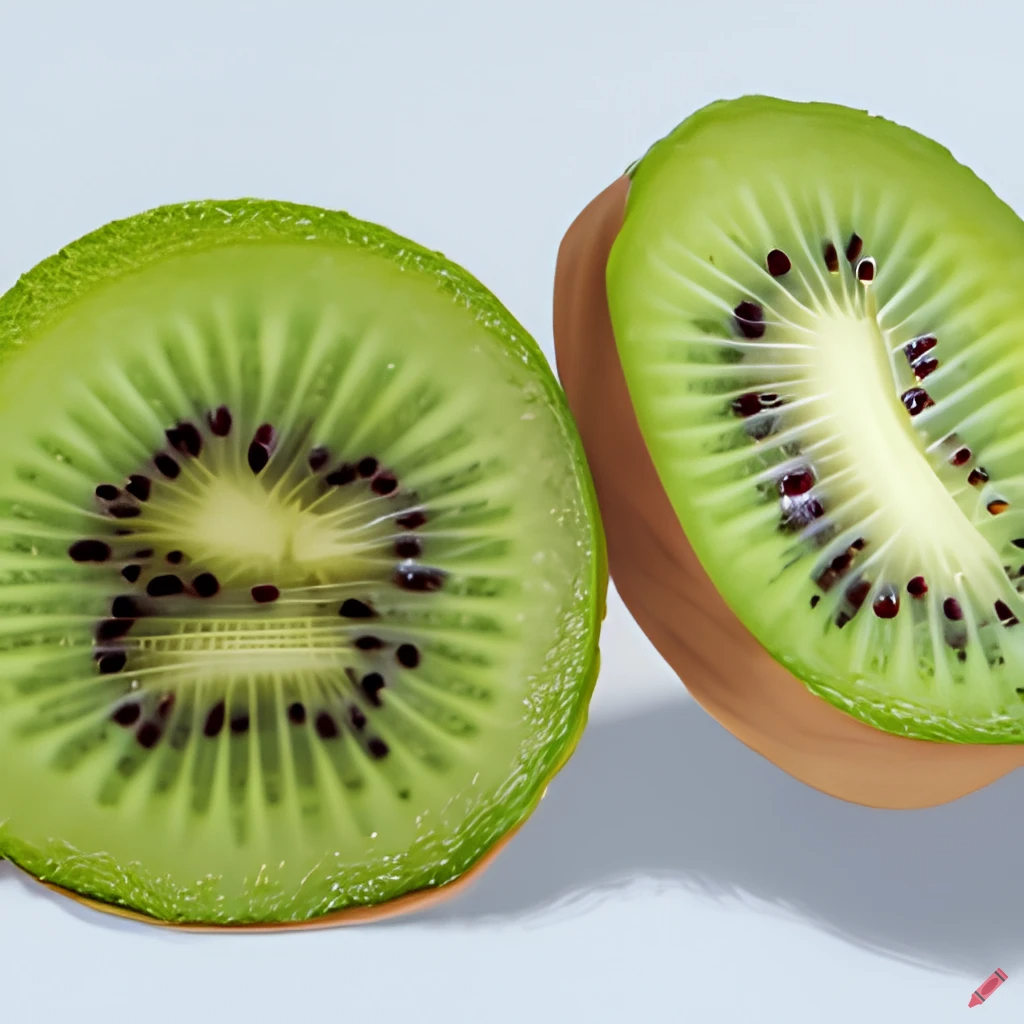Kiwi: (0, 154, 623, 955)
